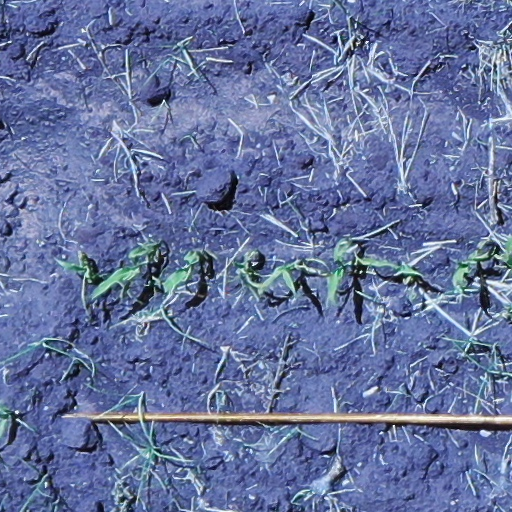planta: (86, 241, 159, 300), (453, 248, 493, 291), (328, 238, 353, 305), (260, 262, 309, 295), (163, 250, 200, 293), (354, 255, 422, 277), (56, 250, 99, 284), (231, 250, 262, 289)
